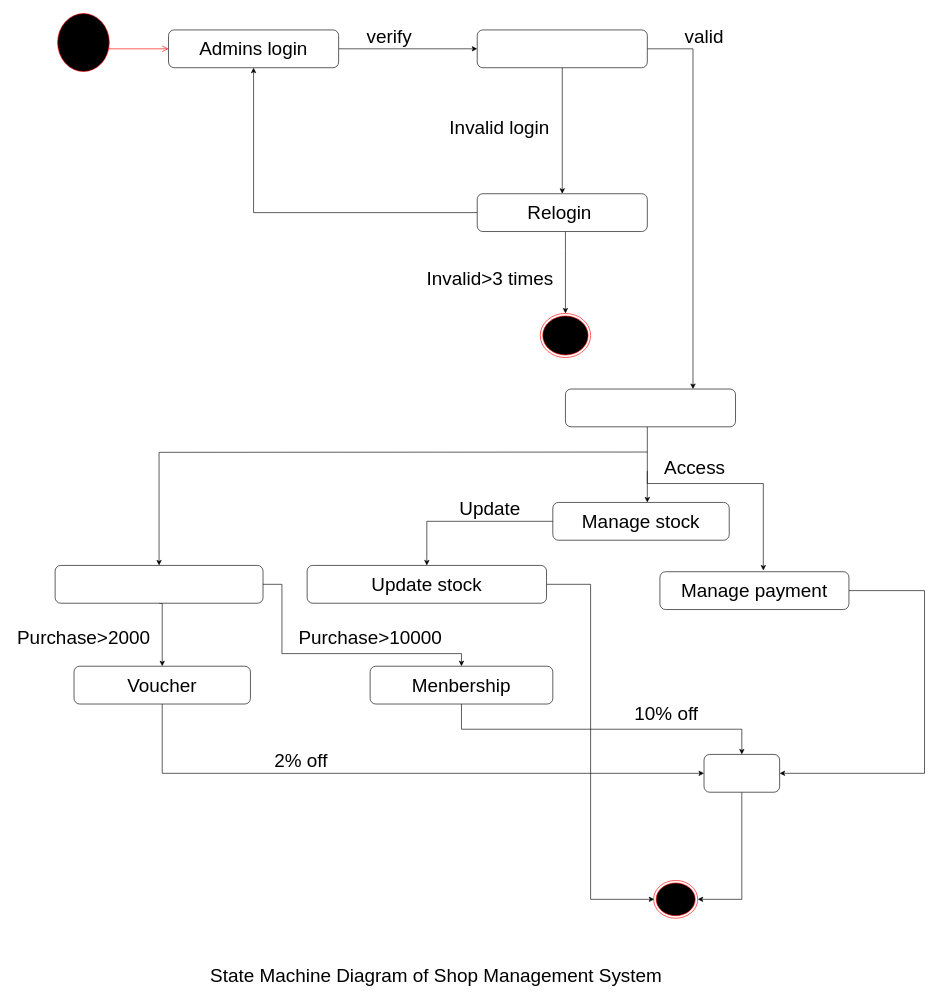
This 941x997 diagram has some shape labels left out. The centre of each missing label's shape, as x and y in pixels:
Access account: (650,407)
Manage Discount: (158,584)
Receipt: (741,773)
verification: (562,48)
